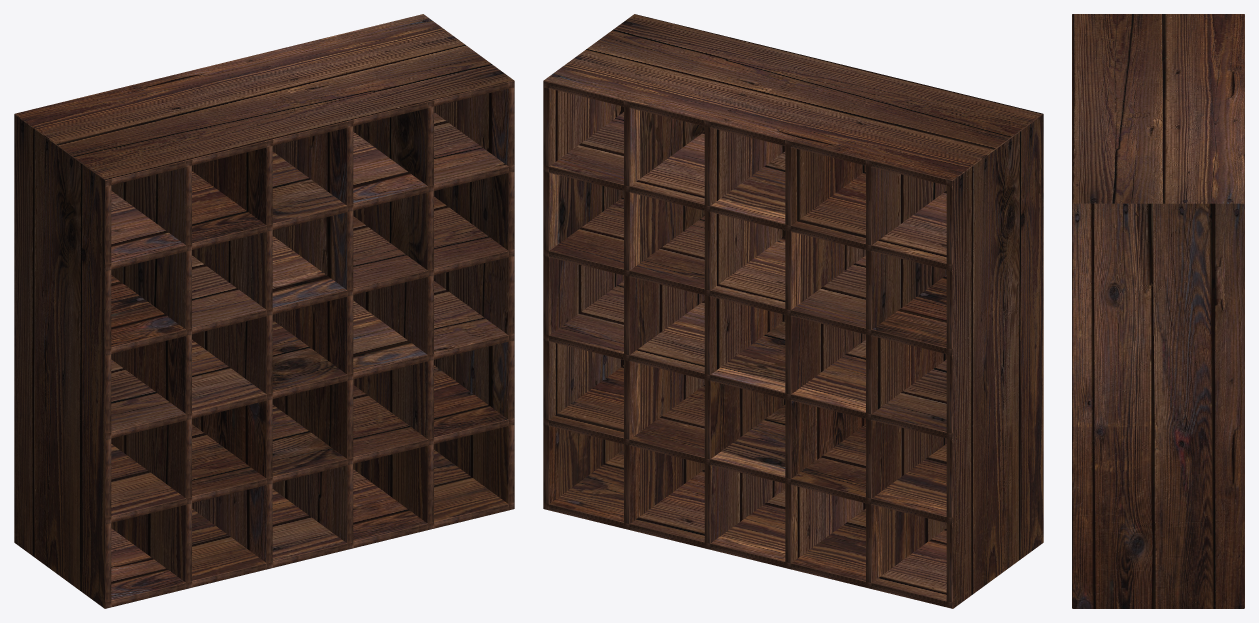
Rendered from Coq_funiture_Shelf01.fbx.
The picture shows the model from 3 angles, left to right: view 1: azimuth 30°, elevation 25°; view 2: azimuth 150°, elevation 25°; view 3: azimuth 270°, elevation 25°; orthographic projection. The views are drawn at different scales.
Parts seen in each view (by area): view 1: base; view 2: base; view 3: base.
Part boxes in pixels (x1,y1,x2,y2): base: (14,14,514,608); base: (543,14,1043,608); base: (1072,14,1244,608).
Size of the model in its own units: 145 by 145 by 56.05.
